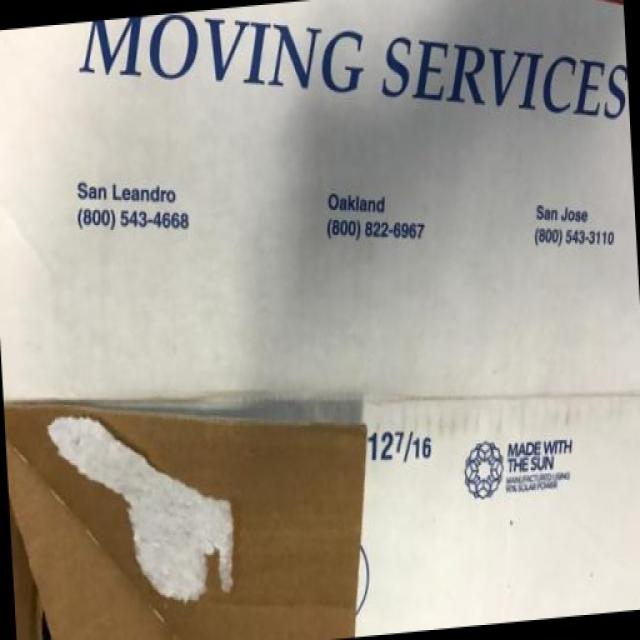carton: (36, 7, 640, 629)
